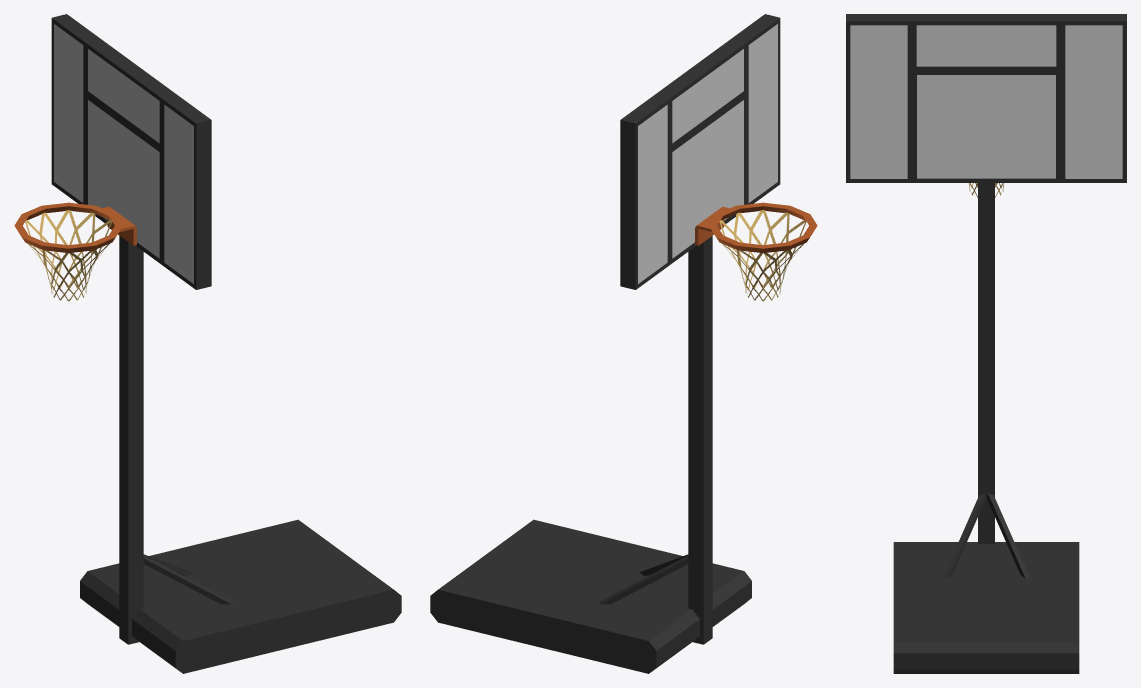
The model's file is basketball_hoop.glb.
3 renders of one model, left to right at view 1: azimuth 30°, elevation 25°; view 2: azimuth 150°, elevation 25°; view 3: azimuth 270°, elevation 25°, orthographic. The views are drawn at different scales.
Parts seen in each view (by area): view 1: Cube; view 2: Cube; view 3: Cube.
Boxes of the visible parts, x1,y1,x2,y2 form: Cube: [14, 14, 401, 673]; Cube: [430, 14, 817, 673]; Cube: [846, 14, 1126, 673].
Bounding box in the file's own units: 106 × 173 × 79.65.
Materials: 2 (1 with a texture image).
